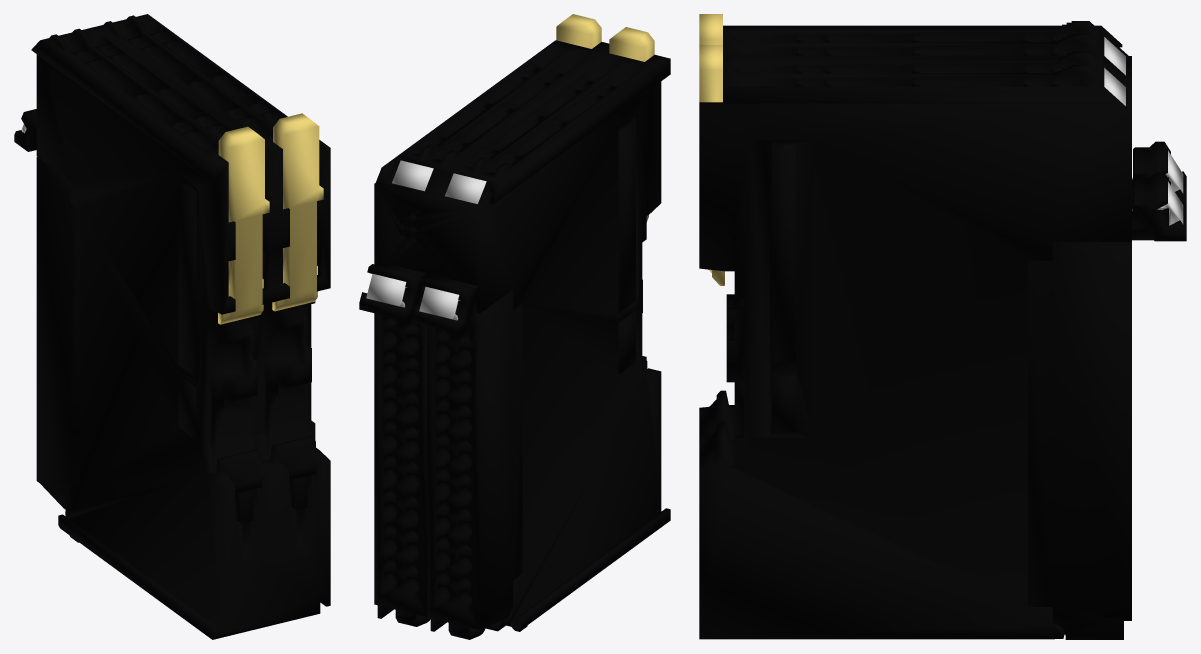
The model's file is NX_HAD401.glb.
3 renders of one model, left to right at view 1: azimuth 30°, elevation 25°; view 2: azimuth 150°, elevation 25°; view 3: azimuth 270°, elevation 25°, orthographic. The views are drawn at different scales.
Parts seen in each view (by area): view 1: NX_HAD401_BASE, NX_HAD401_TERMINAL, NX_HAD401_SLIDER, NX_HAD401_SLIDER.001; view 2: NX_HAD401_BASE, NX_HAD401_TERMINAL, NX_HAD401_TERMINAL.001, NX_HAD401_SLIDER, NX_HAD401_SLIDER.001, NX_HAD401_LABEL.003, NX_HAD401_LABEL.001, NX_HAD401_LABEL, NX_HAD401_LABEL.002; view 3: NX_HAD401_BASE, NX_HAD401_TERMINAL.001, NX_HAD401_SLIDER.001, NX_HAD401_TERMINAL, NX_HAD401_SLIDER.
Part boxes in pixels (x1,y1,x2,y2): NX_HAD401_BASE: (31,14,330,639); NX_HAD401_TERMINAL: (14,109,79,509); NX_HAD401_SLIDER: (218,126,269,324); NX_HAD401_SLIDER.001: (272,113,323,311); NX_HAD401_BASE: (374,40,670,631); NX_HAD401_TERMINAL: (412,275,522,639); NX_HAD401_TERMINAL.001: (359,262,430,626); NX_HAD401_SLIDER: (609,27,654,222); NX_HAD401_SLIDER.001: (556,14,601,48); NX_HAD401_LABEL.003: (419,286,460,320); NX_HAD401_LABEL.001: (366,273,407,307); NX_HAD401_LABEL: (392,160,433,191); NX_HAD401_LABEL.002: (445,173,486,203); NX_HAD401_BASE: (699,21,1131,639); NX_HAD401_TERMINAL.001: (1028,172,1186,639); NX_HAD401_SLIDER.001: (699,45,724,285); NX_HAD401_TERMINAL: (1132,141,1186,209); NX_HAD401_SLIDER: (699,14,722,44).
Bounding box in the file's own units: 0.0261 × 0.106 × 0.08.
